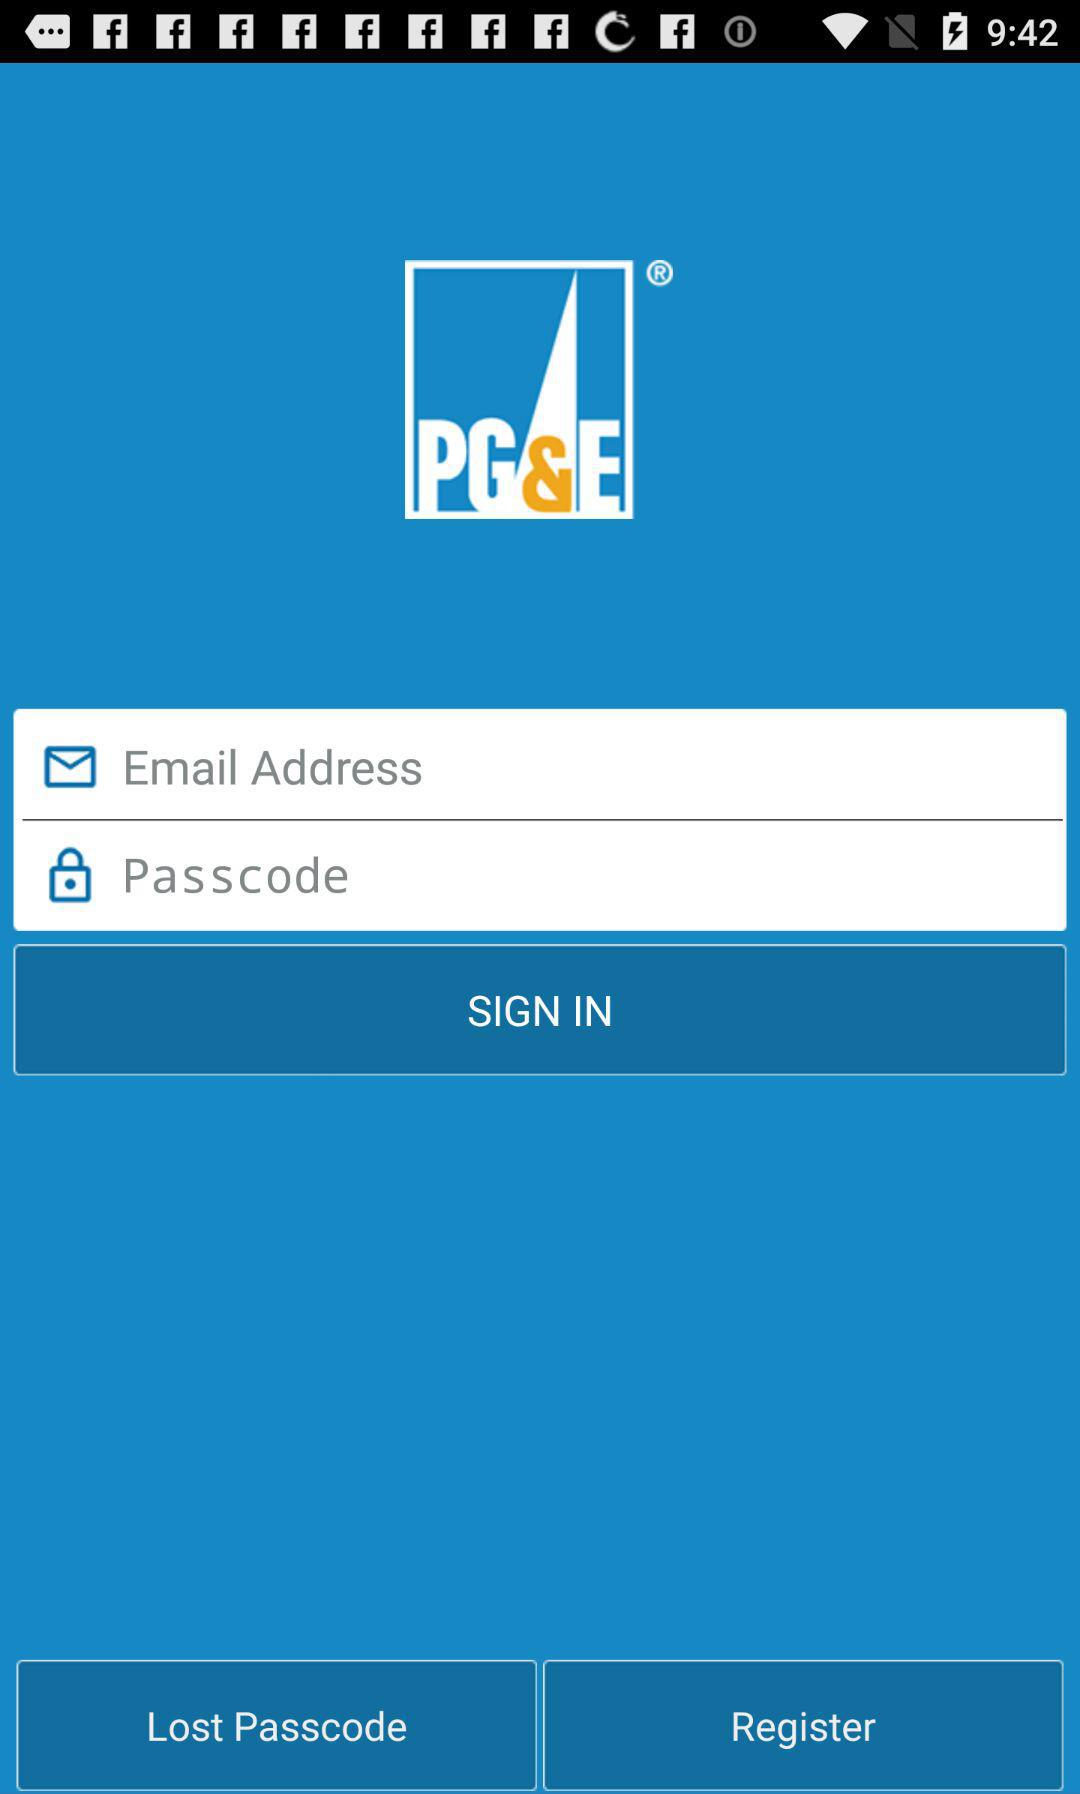EditText: (13, 819, 1067, 932), (13, 709, 1067, 821)
Icon: (49, 847, 94, 903), (44, 745, 97, 789)
Image: (404, 259, 675, 522)
Text: (126, 748, 423, 786), (126, 856, 348, 894)
TextButton: (13, 944, 1068, 1078), (542, 1659, 1065, 1791), (15, 1659, 538, 1791)
UpperTaskBar: (1, 1, 1080, 64)
